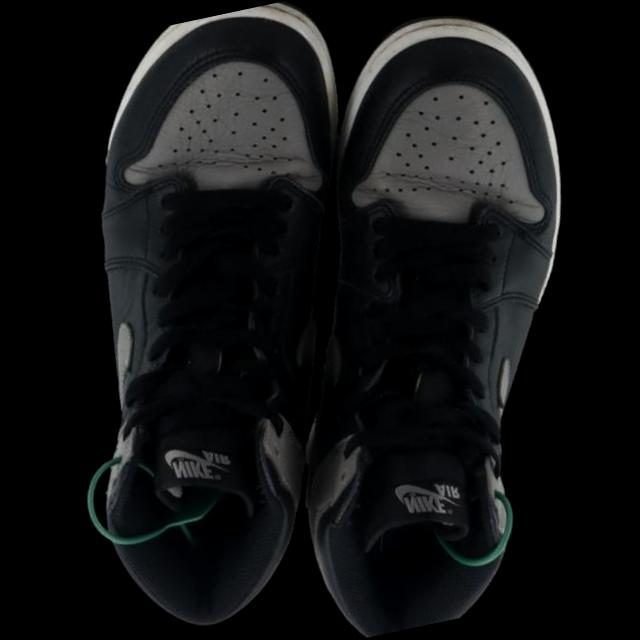nike_original_jordan: (0, 0, 486, 640), (163, 0, 640, 640)
